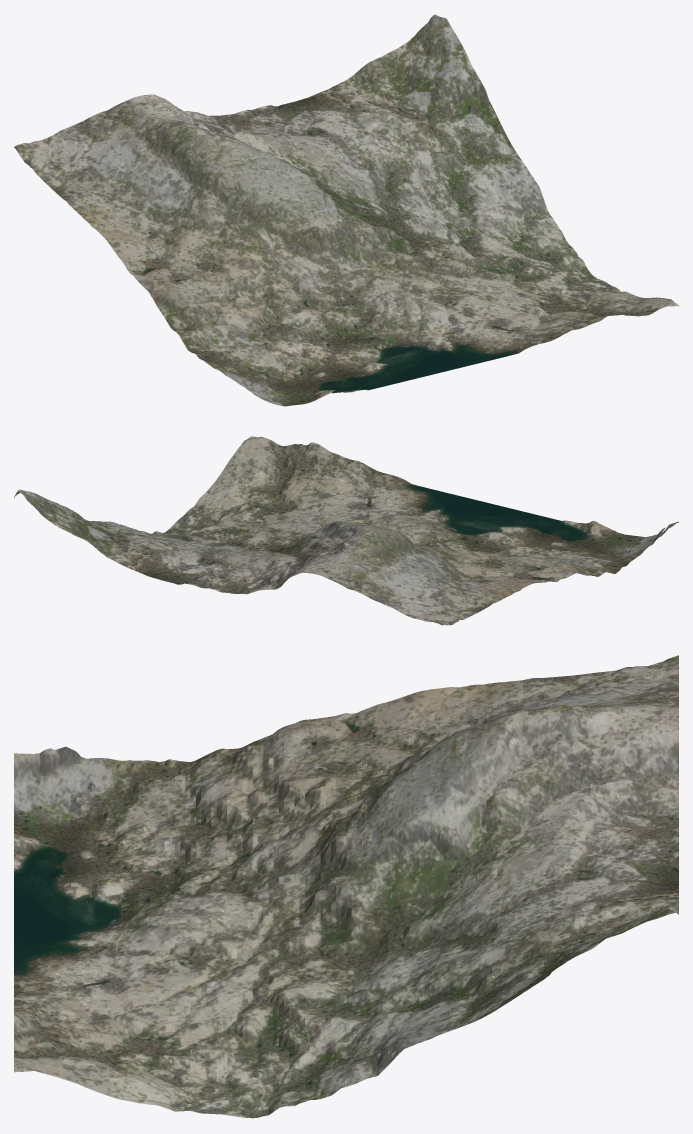
3 renders of one model, top to bottom at view 1: azimuth 30°, elevation 25°; view 2: azimuth 150°, elevation 25°; view 3: azimuth 270°, elevation 25°, orthographic. The views are drawn at different scales.
Bounding box in the file's own units: 1000 × 342 × 963.
1 material, 1 textured.
